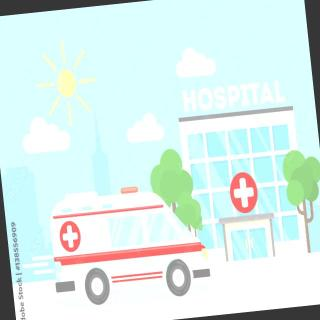Ambulance: (31, 157, 222, 316)
